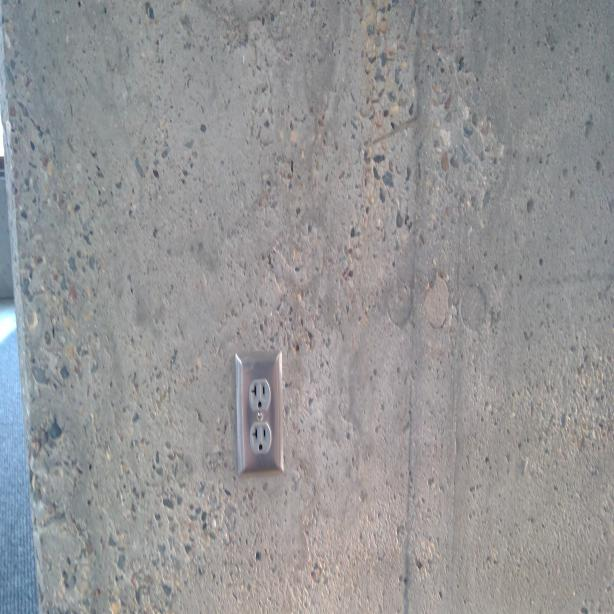typeb: (250, 419, 274, 457), (248, 379, 271, 410)
